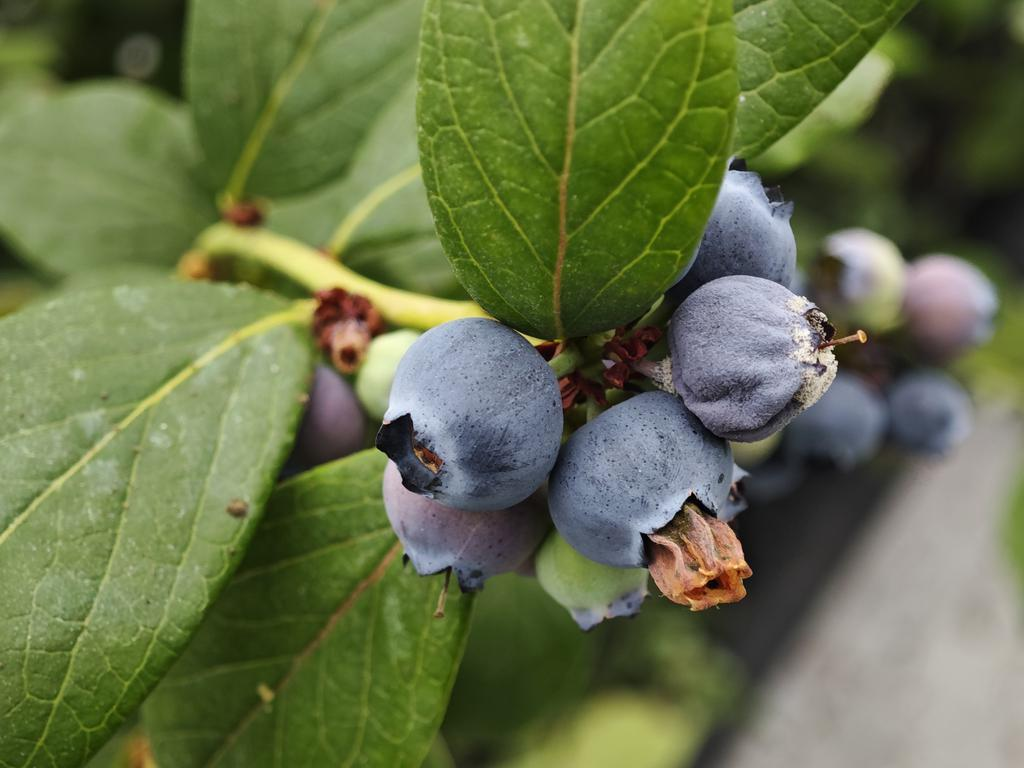RipeBlueBerry: (550, 383, 749, 586), (373, 313, 567, 513)
